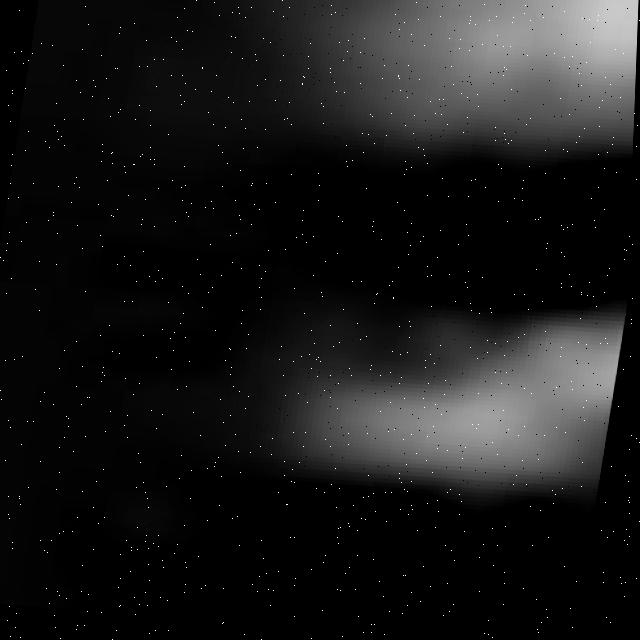person: (258, 238, 633, 549), (231, 1, 640, 184)
